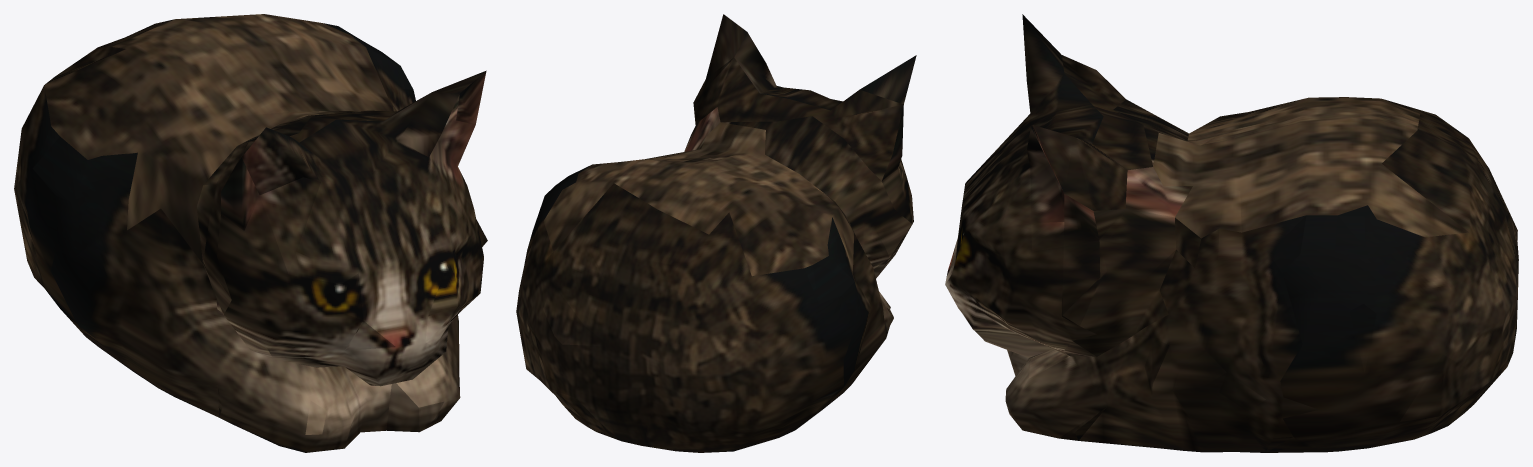
Rendered from musya.glb.
3 renders of one model, left to right at view 1: azimuth 30°, elevation 25°; view 2: azimuth 150°, elevation 25°; view 3: azimuth 270°, elevation 25°, orthographic. The views are drawn at different scales.
Visible parts, largest first — view 1: musya_bread.001; view 2: musya_bread.001; view 3: musya_bread.001.
Boxes of the visible parts, x1,y1,x2,y2 form: musya_bread.001: [14, 14, 487, 452]; musya_bread.001: [516, 14, 916, 452]; musya_bread.001: [945, 14, 1518, 452].
Size of the model in its own units: 0.1881 by 0.1675 by 0.2608.
1 material, 1 textured.
